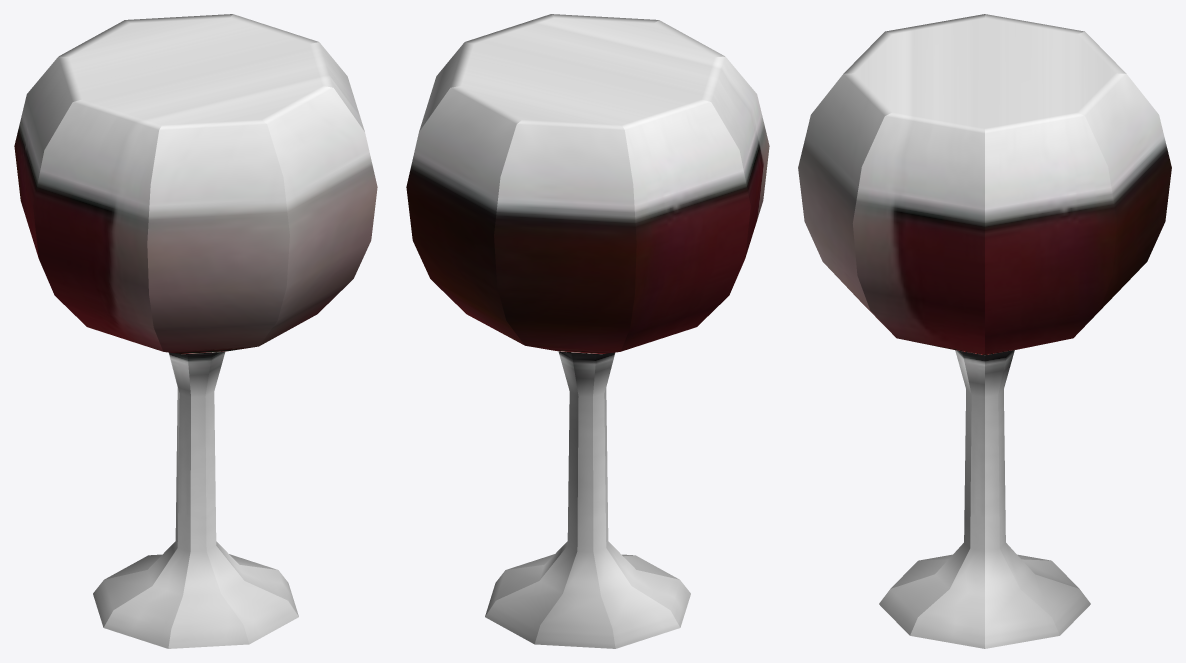
Rendered from beer10m.fbx.
3 renders of one model, left to right at view 1: azimuth 30°, elevation 25°; view 2: azimuth 150°, elevation 25°; view 3: azimuth 270°, elevation 25°, orthographic.
Visible parts, largest first — view 1: pCylinder8; view 2: pCylinder8; view 3: pCylinder8.
Part boxes in pixels (<box>): pCylinder8: <box>14,14,377,648</box>; pCylinder8: <box>406,14,769,648</box>; pCylinder8: <box>798,14,1171,648</box>.
Size of the model in its own units: 1.91 by 2.99 by 1.91.
Materials: 1 (1 with a texture image).
